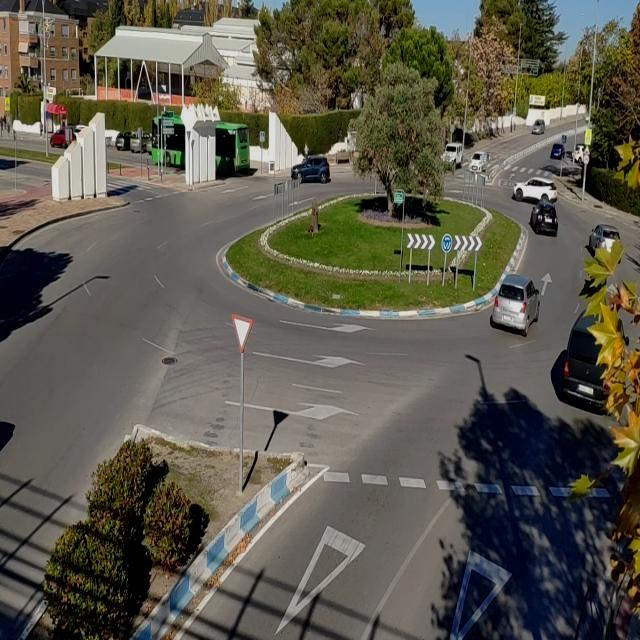Car: (491, 275, 541, 331), (513, 176, 558, 204), (291, 155, 330, 184), (530, 200, 556, 241), (468, 151, 490, 175), (549, 144, 565, 158)
